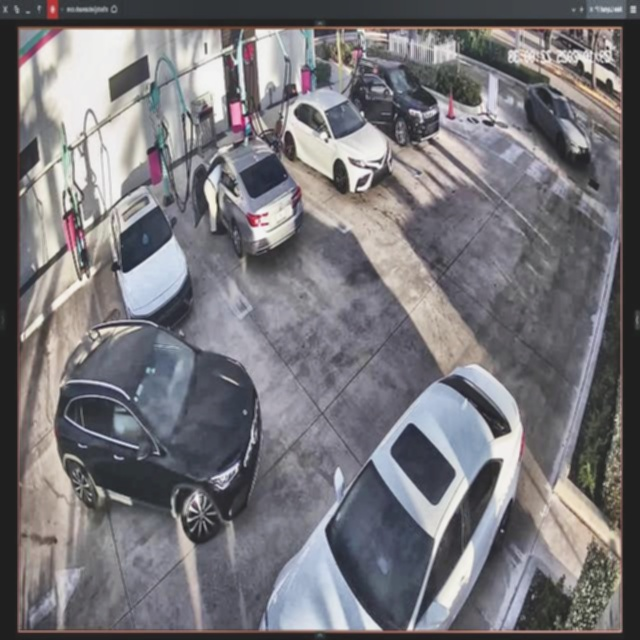Car: (259, 360, 521, 633), (53, 322, 256, 547), (192, 138, 302, 252), (279, 86, 390, 196), (110, 186, 191, 325), (350, 60, 438, 141)
